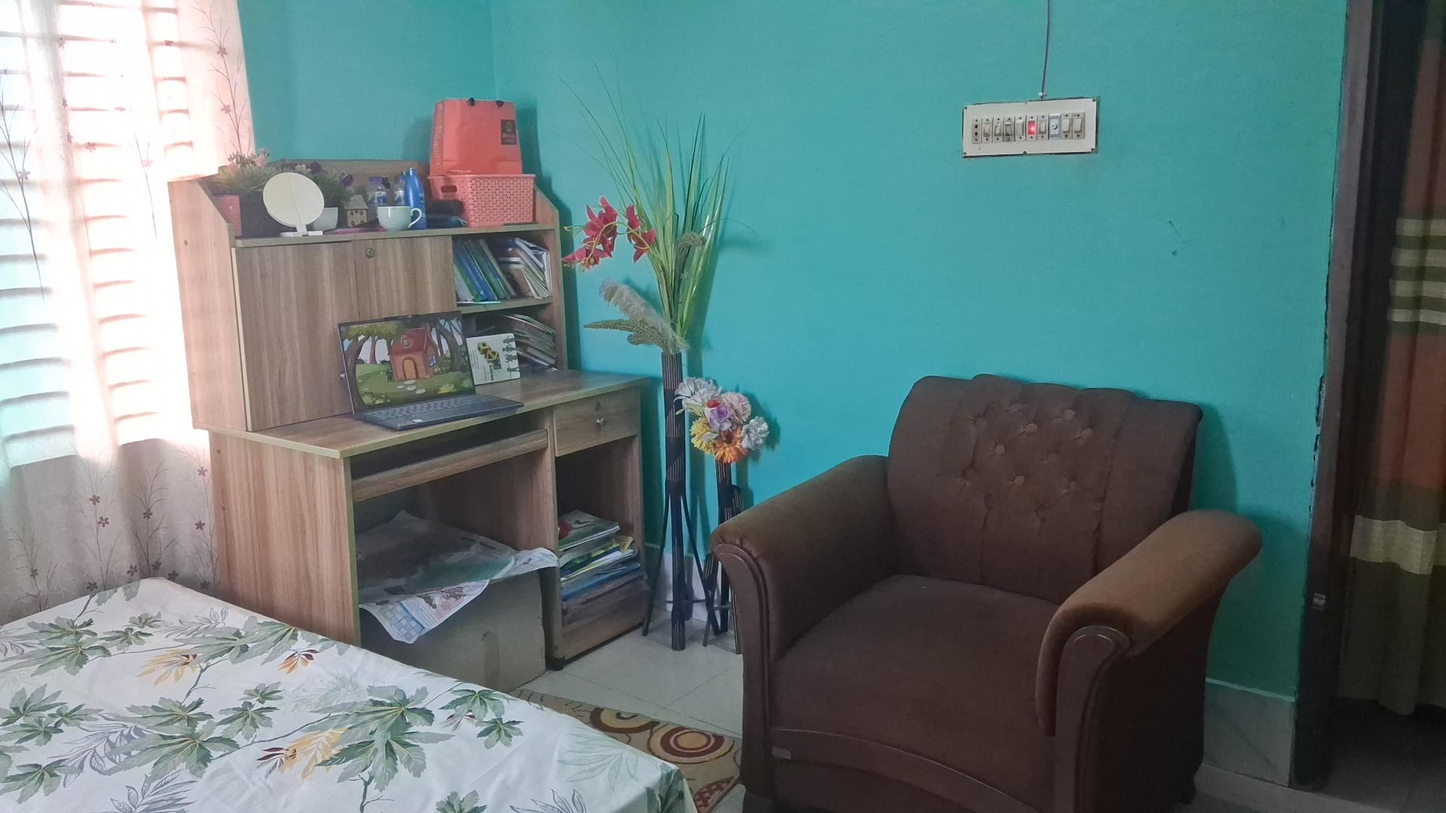Basket: (428, 168, 530, 229)
Cup: (378, 198, 423, 232)
Drawer: (557, 387, 638, 457)
Laptop: (334, 313, 526, 430)
Table: (163, 138, 647, 677)
